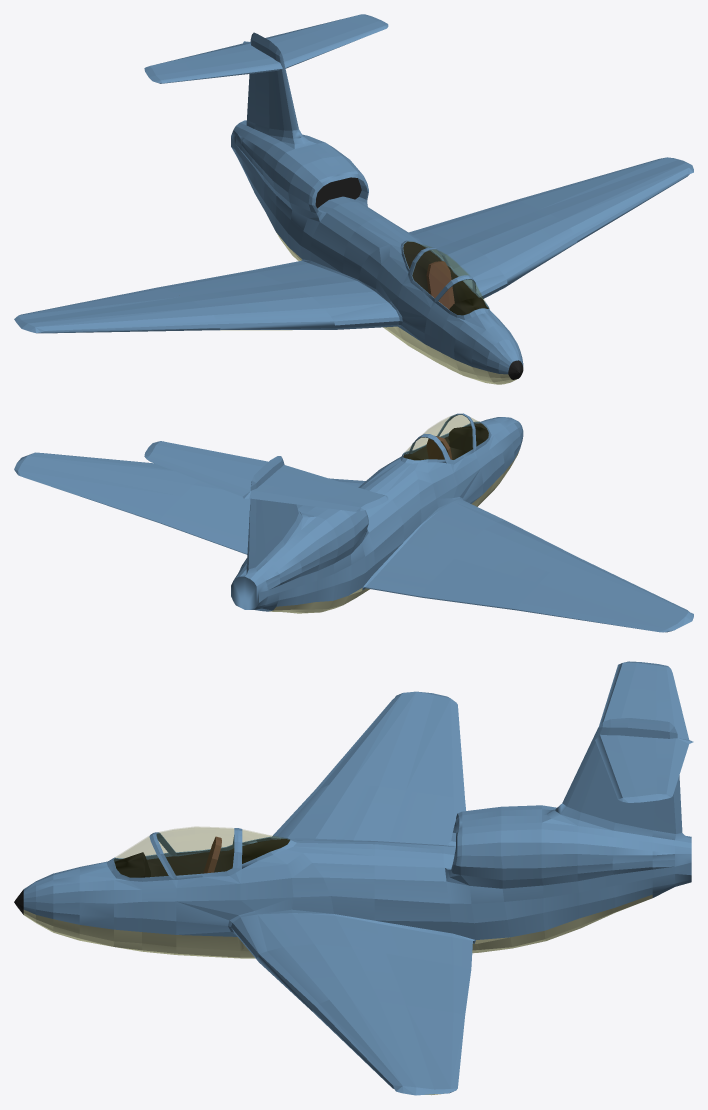
File: aircraft_2_breakaway.glb
3 views of the same model, one above another, from view 1: azimuth 30°, elevation 25°; view 2: azimuth 150°, elevation 25°; view 3: azimuth 270°, elevation 25° (orthographic). The views are drawn at different scales.
Parts seen in each view (by area): view 1: main fuselage, OuterWingRight, OuterWingLeft, VerticalTip, canopy, HorizontalTipRight, HorizontalTipLeft, seat and panel, canopy frame, right outer wing, left outer wing; view 2: main fuselage, OuterWingRight, OuterWingLeft, VerticalTip, canopy, HorizontalTipLeft, HorizontalTipRight, seat and panel, canopy frame, right outer wing, left outer wing; view 3: main fuselage, OuterWingRight, OuterWingLeft, VerticalTip, canopy, HorizontalTipRight, HorizontalTipLeft, canopy frame, right outer wing, left outer wing, seat and panel.
Boxes of the visible parts, bbox=[...] form: main fuselage: bbox=[159, 99, 577, 384]; OuterWingRight: bbox=[14, 290, 202, 333]; OuterWingLeft: bbox=[529, 157, 693, 235]; VerticalTip: bbox=[204, 30, 325, 136]; canopy: bbox=[404, 241, 487, 314]; HorizontalTipRight: bbox=[144, 53, 234, 83]; HorizontalTipLeft: bbox=[296, 14, 388, 53]; seat and panel: bbox=[426, 261, 487, 315]; canopy frame: bbox=[400, 240, 491, 319]; right outer wing: bbox=[146, 287, 220, 330]; left outer wing: bbox=[516, 196, 588, 242]; main fuselage: bbox=[158, 417, 575, 613]; OuterWingRight: bbox=[529, 561, 693, 632]; OuterWingLeft: bbox=[14, 452, 182, 518]; VerticalTip: bbox=[202, 455, 323, 545]; canopy: bbox=[404, 415, 488, 459]; HorizontalTipLeft: bbox=[144, 441, 232, 481]; HorizontalTipRight: bbox=[296, 477, 388, 511]; seat and panel: bbox=[426, 426, 488, 459]; canopy frame: bbox=[400, 413, 491, 464]; right outer wing: bbox=[515, 556, 587, 612]; left outer wing: bbox=[145, 474, 197, 522]; main fuselage: bbox=[14, 783, 691, 1014]; OuterWingRight: bbox=[323, 691, 464, 790]; OuterWingLeft: bbox=[320, 1005, 464, 1095]; VerticalTip: bbox=[556, 701, 693, 813]; canopy: bbox=[114, 827, 289, 876]; HorizontalTipRight: bbox=[604, 661, 681, 710]; HorizontalTipLeft: bbox=[604, 759, 681, 802]; canopy frame: bbox=[107, 828, 296, 881]; right outer wing: bbox=[314, 774, 464, 800]; left outer wing: bbox=[312, 998, 464, 1022]; seat and panel: bbox=[114, 836, 221, 877].
Bounding box in the file's own units: 15.55 × 4.25 × 11.07.
